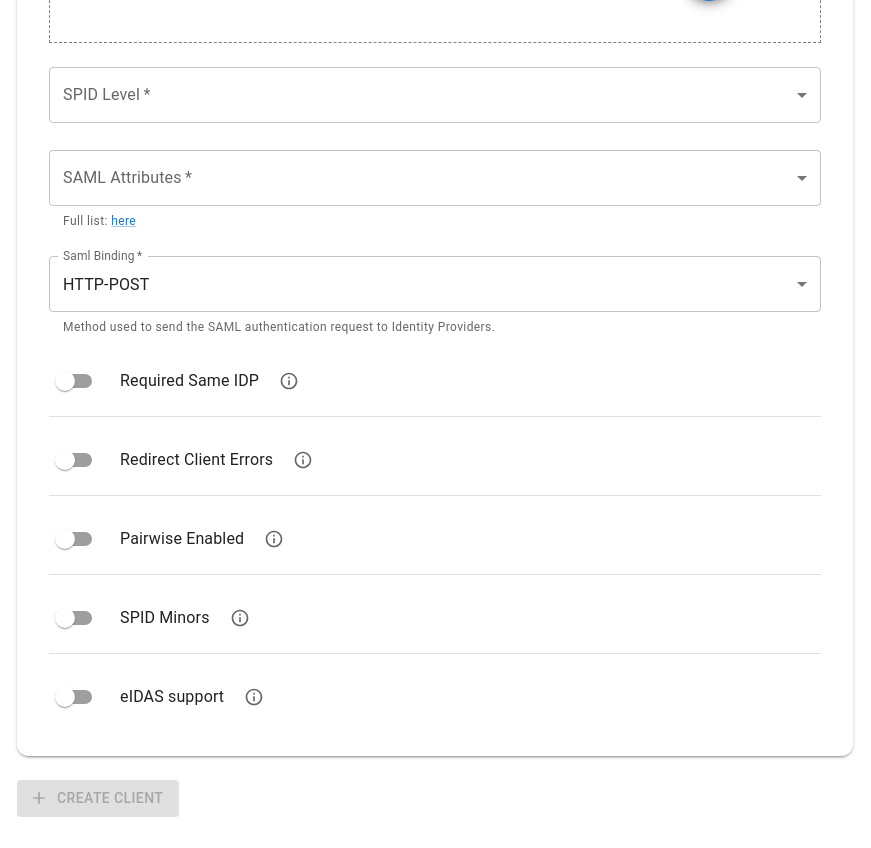
Test: Dashboard SPID Minors › hides all SPID Minors fields when toggle is turned off
(page scrolled)
Click the checkbox labelled "SPID Minors".
click(132, 618)  # box top-left (55, 608), bottom-right (210, 628)
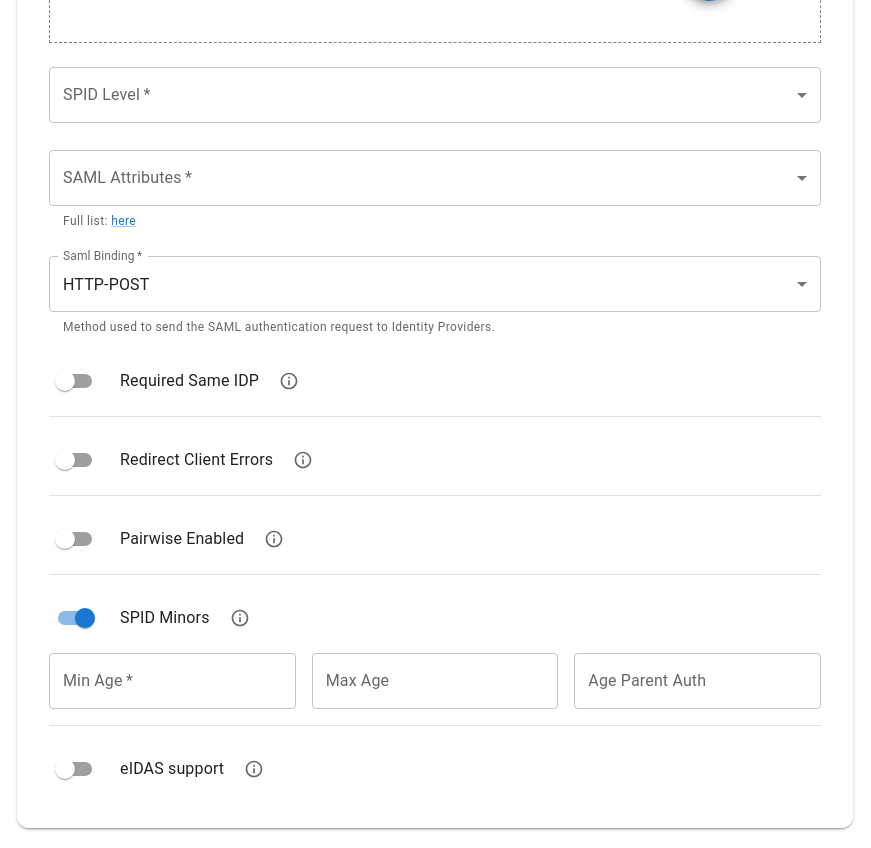
Now the number field labelled "Min Age *" is shown, box top-left (49, 653), bottom-right (296, 709)
Click the checkbox labelled "SPID Minors".
click(134, 618)  # box top-left (58, 608), bottom-right (210, 628)
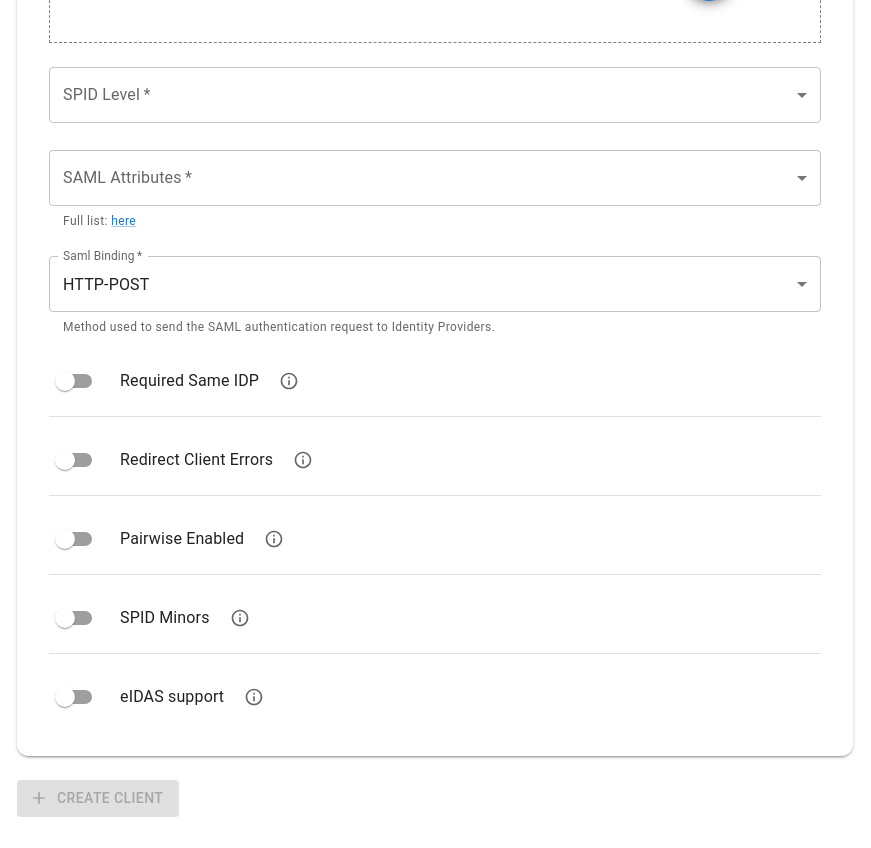
Now the label labelled "Min Age" is gone
Now the label labelled "Max Age" is gone
Now the label labelled "Age Parent Auth" is gone
